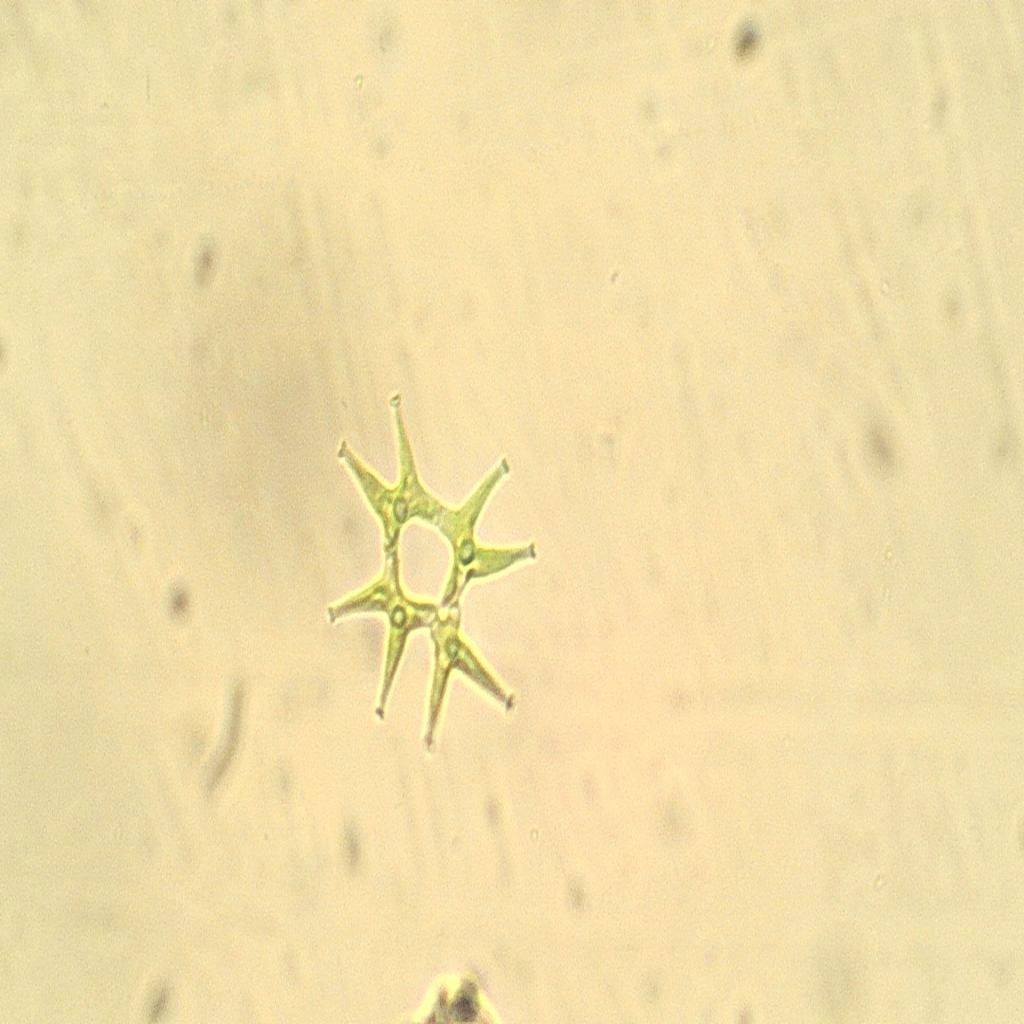Pediastrum_CF: (310, 385, 545, 779)
